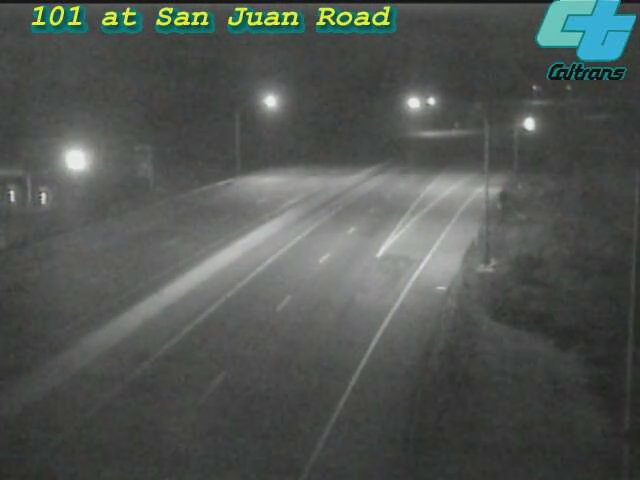vehicle: (503, 99, 553, 149)
